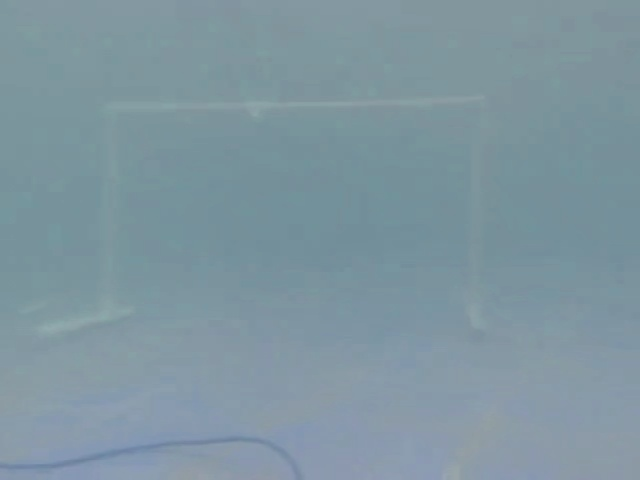gate: (35, 81, 519, 348)
